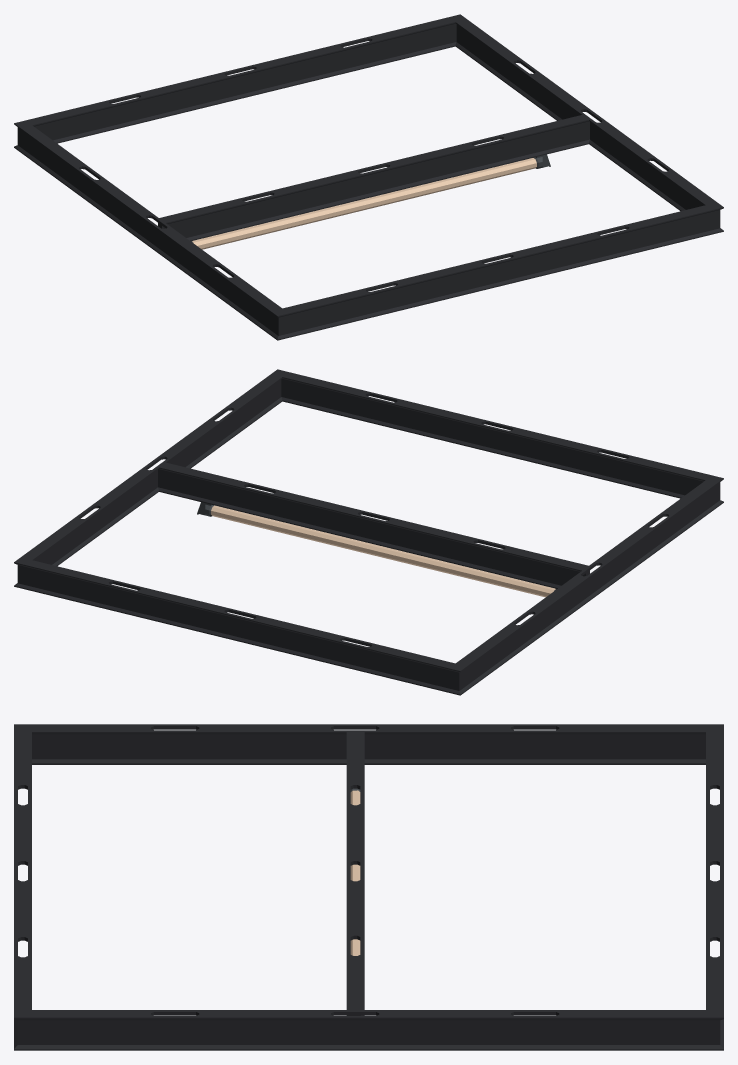
The model's file is SM_Roof_02.gltf.
3 views of the same model, one above another, from view 1: azimuth 30°, elevation 25°; view 2: azimuth 150°, elevation 25°; view 3: azimuth 270°, elevation 25° (orthographic). The views are drawn at different scales.
Visible parts, largest first — view 1: SM_Roof_02; view 2: SM_Roof_02; view 3: SM_Roof_02.
Boxes of the visible parts, x1=… form: SM_Roof_02: x1=14, y1=14, x2=723, y2=340; SM_Roof_02: x1=14, y1=369, x2=723, y2=695; SM_Roof_02: x1=14, y1=724, x2=723, y2=1050.
Bounding box in the file's own units: 1.91 × 0.1614 × 1.95.
